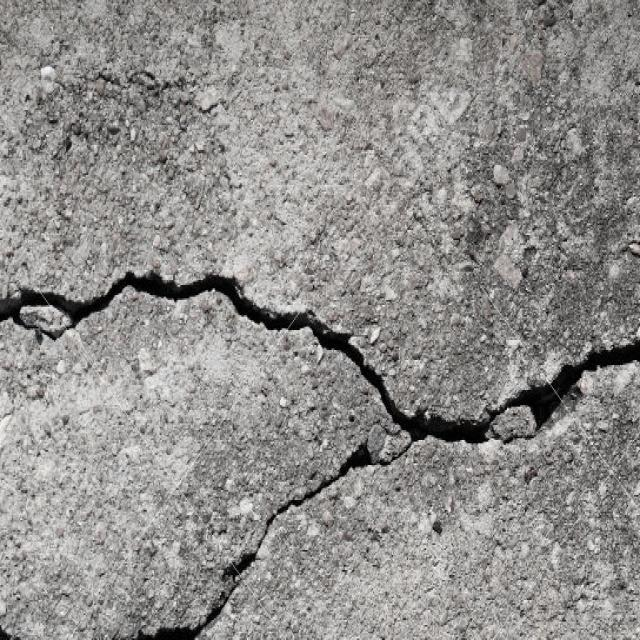Annular: (0, 276, 90, 356)
Radial: (0, 242, 640, 640)
